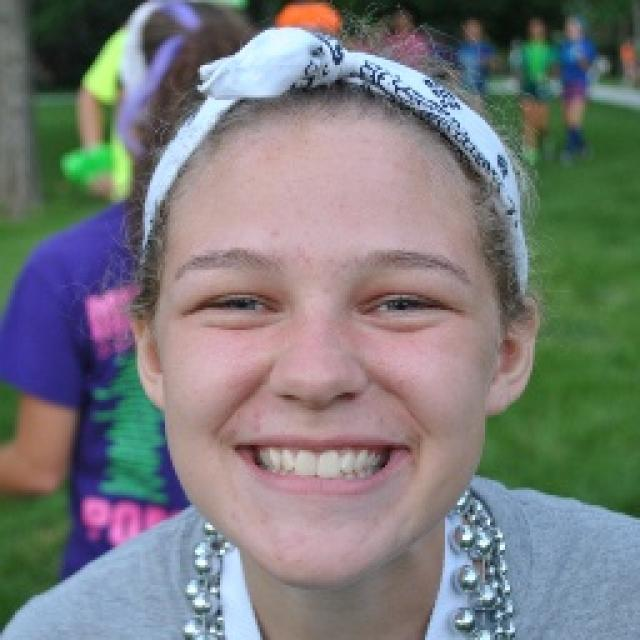earlobe: (485, 296, 540, 417), (129, 306, 164, 410)
